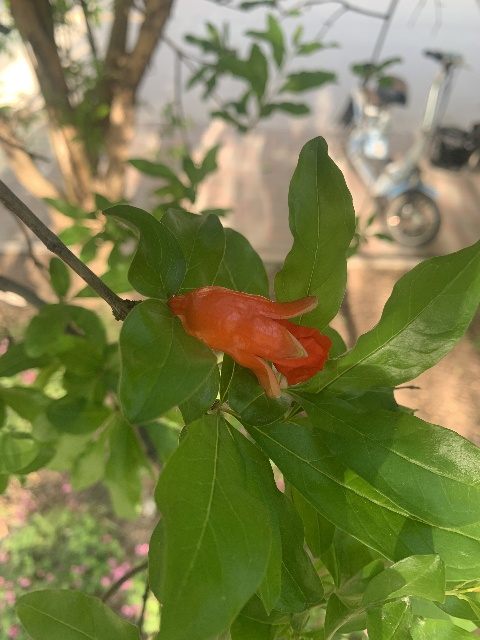flower: (170, 285, 331, 399)
